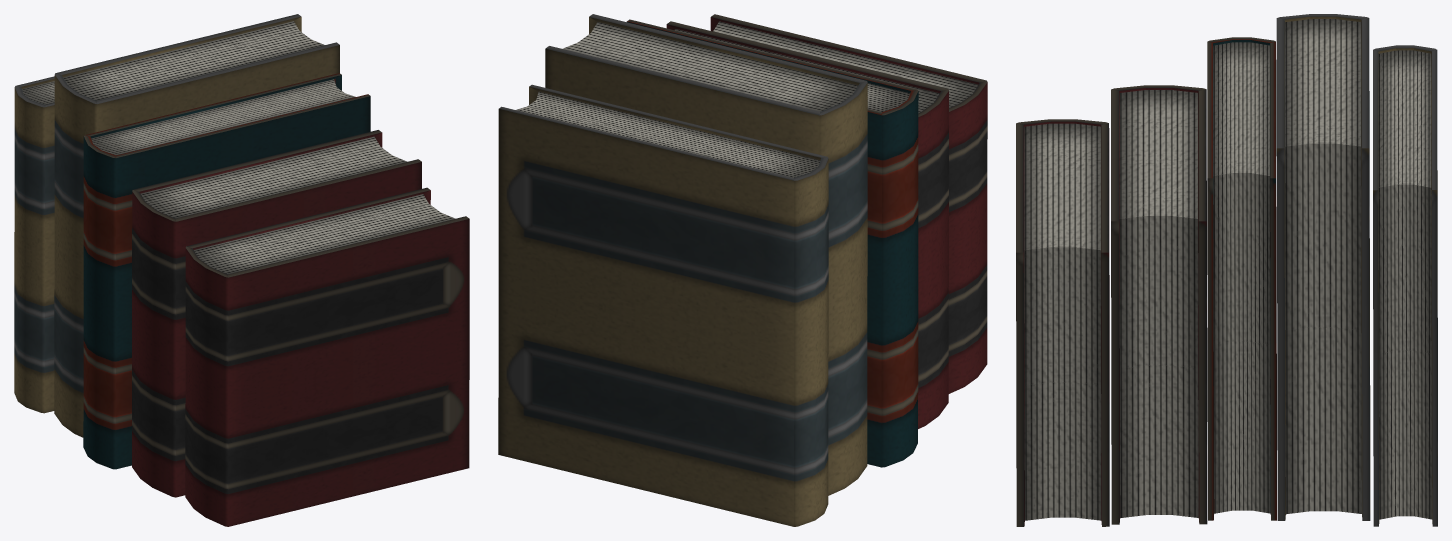
File: CI_074_books_var1.glb
3 renders of one model, left to right at view 1: azimuth 30°, elevation 25°; view 2: azimuth 150°, elevation 25°; view 3: azimuth 270°, elevation 25°, orthographic. The views are drawn at different scales.
Parts seen in each view (by area): view 1: book_3, book_4, book_5, book_1, book_2; view 2: book_2, book_1, book_5, book_3, book_4; view 3: book_1, book_4, book_3, book_5, book_2.
Part boxes in pixels (left/top/right/bottom): book_3: left=185, top=187, right=469, bottom=526; book_4: left=132, top=130, right=421, bottom=497; book_5: left=83, top=73, right=370, bottom=469; book_1: left=54, top=14, right=339, bottom=437; book_2: left=14, top=76, right=54, bottom=413; book_2: left=498, top=84, right=828, bottom=526; book_1: left=545, top=14, right=867, bottom=495; book_5: left=626, top=19, right=918, bottom=467; book_3: left=710, top=14, right=987, bottom=393; book_4: left=666, top=21, right=948, bottom=428; book_1: left=1276, top=14, right=1370, bottom=520; book_4: left=1111, top=85, right=1207, bottom=524; book_3: left=1016, top=119, right=1109, bottom=526; book_5: left=1207, top=37, right=1276, bottom=520; book_2: left=1373, top=45, right=1437, bottom=526.
Bounding box in the file's own units: 0.6065 × 0.7166 × 0.7348.
Materials: 1 (1 with a texture image).
